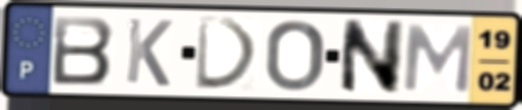B: (50, 14, 117, 87)
D: (193, 15, 263, 92)
K: (122, 15, 175, 89)
M: (399, 23, 475, 96)
N: (337, 17, 407, 96)
O: (263, 18, 328, 94)
